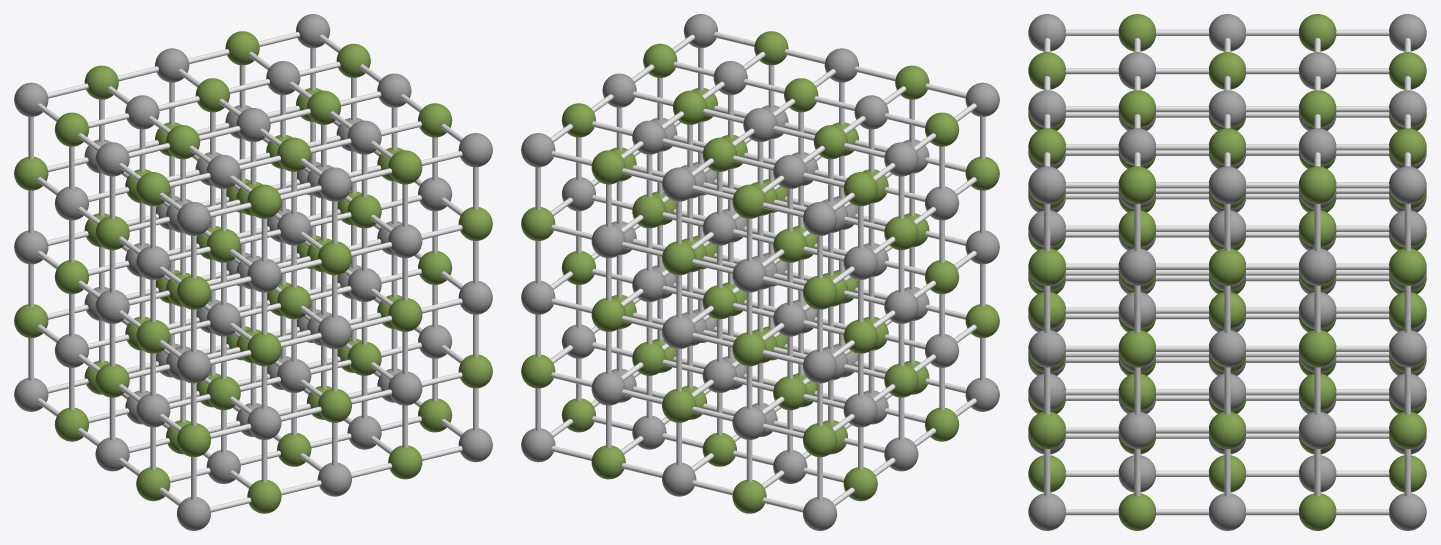
File: nacl.glb
3 views of the same model, side by side, from view 1: azimuth 30°, elevation 25°; view 2: azimuth 150°, elevation 25°; view 3: azimuth 270°, elevation 25° (orthographic). The views are drawn at different scales.
Visible parts, largest first — view 1: Object_3, Object_5, Object_4; view 2: Object_3, Object_5, Object_4; view 3: Object_3, Object_5, Object_4.
Boxes of the visible parts, x1=… form: Object_3: x1=28, y1=32, x2=478, y2=512; Object_5: x1=14, y1=14, x2=492, y2=530; Object_4: x1=14, y1=31, x2=492, y2=513; Object_3: x1=535, y1=32, x2=985, y2=512; Object_5: x1=521, y1=14, x2=999, y2=530; Object_4: x1=521, y1=31, x2=999, y2=513; Object_3: x1=1044, y1=29, x2=1410, y2=515; Object_5: x1=1028, y1=14, x2=1426, y2=530; Object_4: x1=1028, y1=14, x2=1426, y2=530.
Size of the model in its own units: 17.57 by 17.57 by 17.57.
